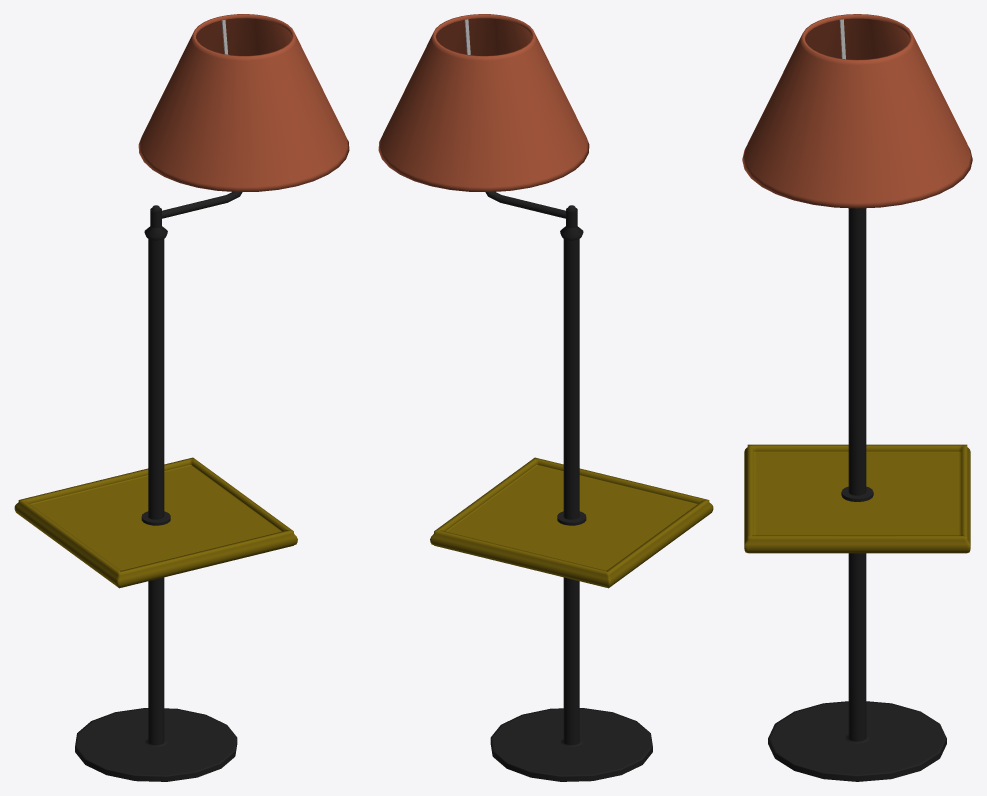
The model's file is lounge_floor_lamp.obj.
3 renders of one model, left to right at view 1: azimuth 30°, elevation 25°; view 2: azimuth 150°, elevation 25°; view 3: azimuth 270°, elevation 25°, orthographic. The views are drawn at different scales.
Parts seen in each view (by area): view 1: shade.001_Circle, littletable.001_Plane.002, bae.001_Cylinder.001; view 2: shade.001_Circle, littletable.001_Plane.002, bae.001_Cylinder.001; view 3: shade.001_Circle, littletable.001_Plane.002, bae.001_Cylinder.001.
Part boxes in pixels (left/top/right/bottom): shade.001_Circle: left=138, top=14, right=349, bottom=192; littletable.001_Plane.002: left=14, top=457, right=297, bottom=588; bae.001_Cylinder.001: left=75, top=192, right=242, bottom=781; shade.001_Circle: left=378, top=14, right=589, bottom=192; littletable.001_Plane.002: left=430, top=457, right=713, bottom=588; bae.001_Cylinder.001: left=485, top=192, right=652, bottom=781; shade.001_Circle: left=742, top=14, right=972, bottom=208; littletable.001_Plane.002: left=744, top=444, right=970, bottom=553; bae.001_Cylinder.001: left=768, top=208, right=946, bottom=781.
Size of the model in its own units: 58.29 by 143 by 39.65.
